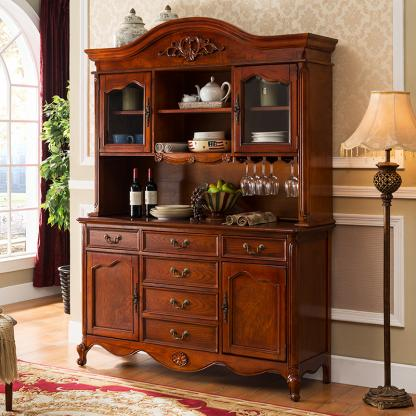Cupboard: (73, 19, 339, 401), (84, 345, 416, 416)
